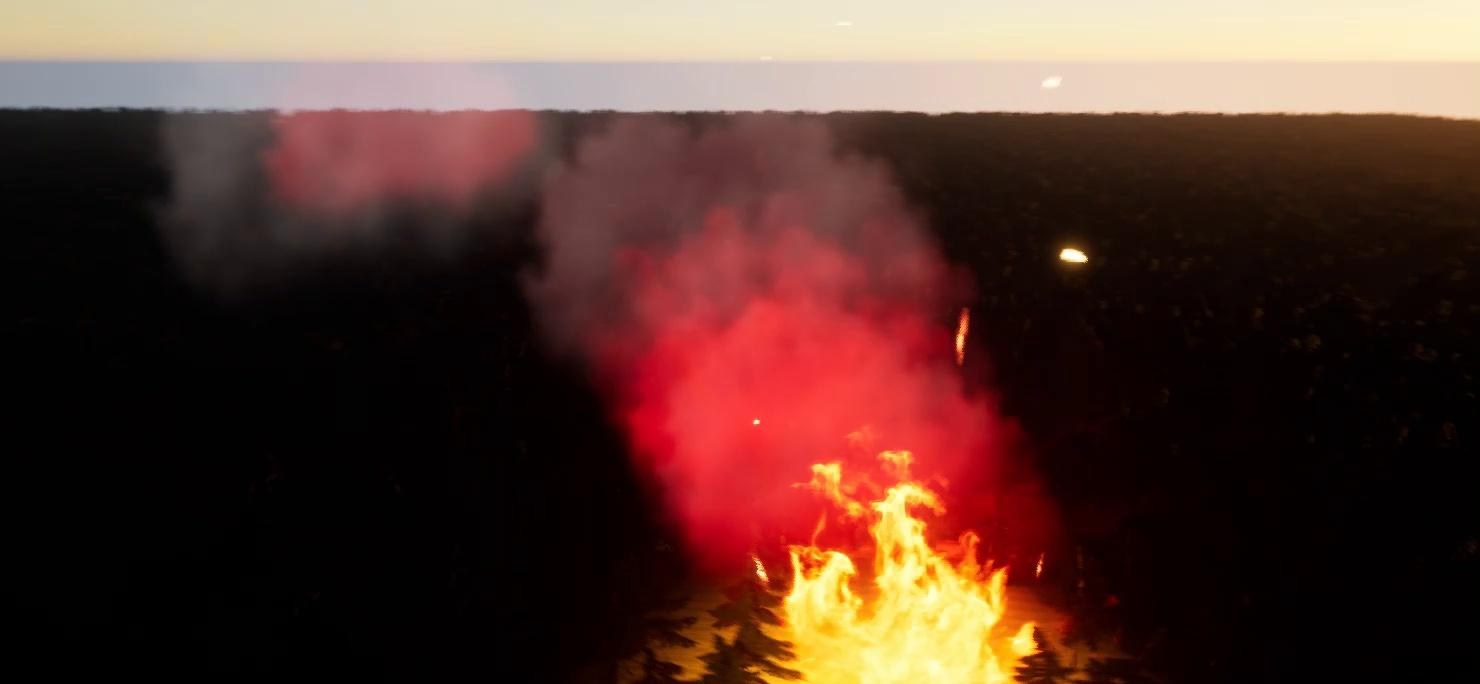fire: (751, 455, 1051, 683)
smoke: (541, 111, 1054, 555), (158, 99, 551, 266)
